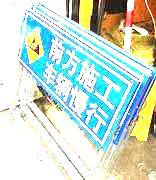sign: (25, 10, 124, 148)
